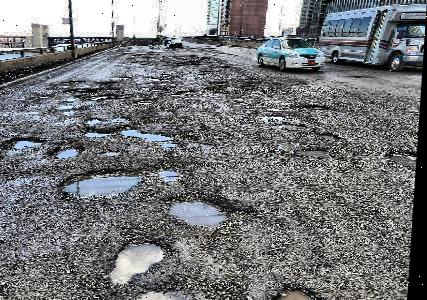pothole: (60, 165, 149, 200), (110, 238, 172, 285), (165, 194, 236, 229), (120, 126, 176, 142), (274, 281, 323, 299), (388, 148, 418, 170), (51, 142, 86, 159), (157, 165, 188, 184), (11, 135, 49, 150), (296, 146, 334, 156), (84, 128, 117, 139), (135, 96, 157, 108), (89, 95, 120, 103), (308, 101, 329, 111), (85, 116, 105, 125)
